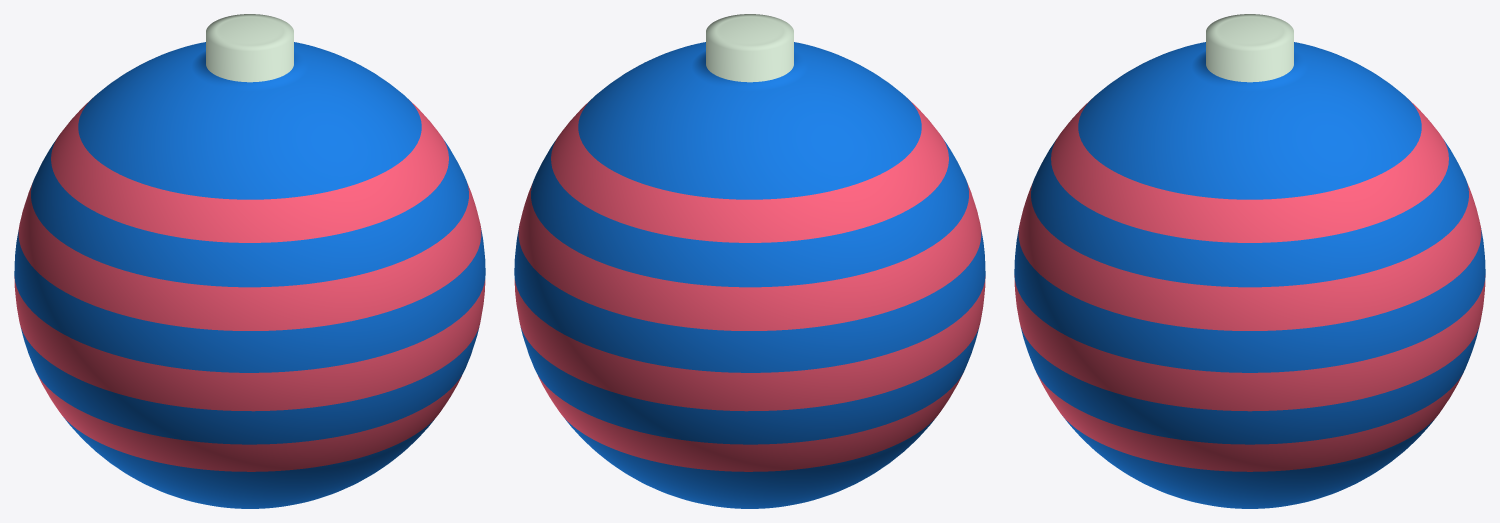
File: kerstblue.glb
The picture shows the model from 3 angles, left to right: view 1: azimuth 30°, elevation 25°; view 2: azimuth 150°, elevation 25°; view 3: azimuth 270°, elevation 25°; orthographic projection.
Visible parts, largest first — view 1: Sphere; view 2: Sphere; view 3: Sphere.
Part boxes in pixels (x1=…): Sphere: x1=14, y1=14, x2=485, y2=508; Sphere: x1=514, y1=14, x2=985, y2=508; Sphere: x1=1014, y1=14, x2=1485, y2=508.
Size of the model in its own units: 2 by 2.14 by 2.
